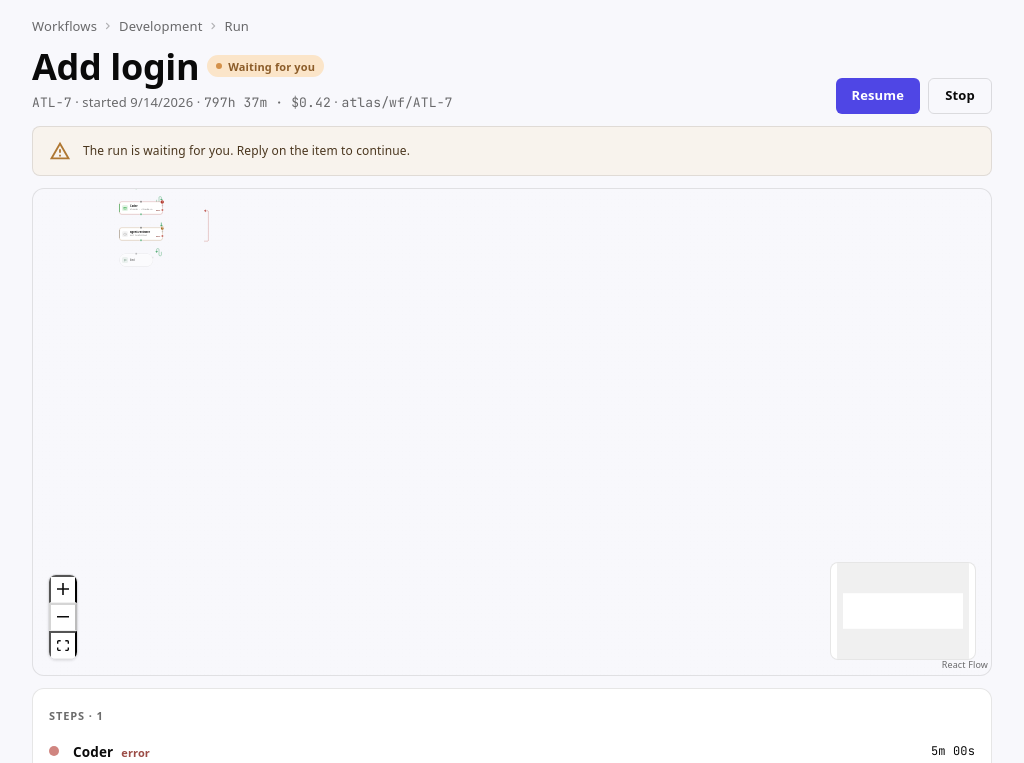
Scenario: WorkflowRunDetail › explains a parked run, offers Resume and resumes it
expect the text "The run is waiting for you. Reply on the item to continue." is shown: met, box [83,142,410,159]
What coordinates should you click on to do the following:
click the button "Resume"
I would click on:
 (878, 96)
Its box is [836,78,920,114].
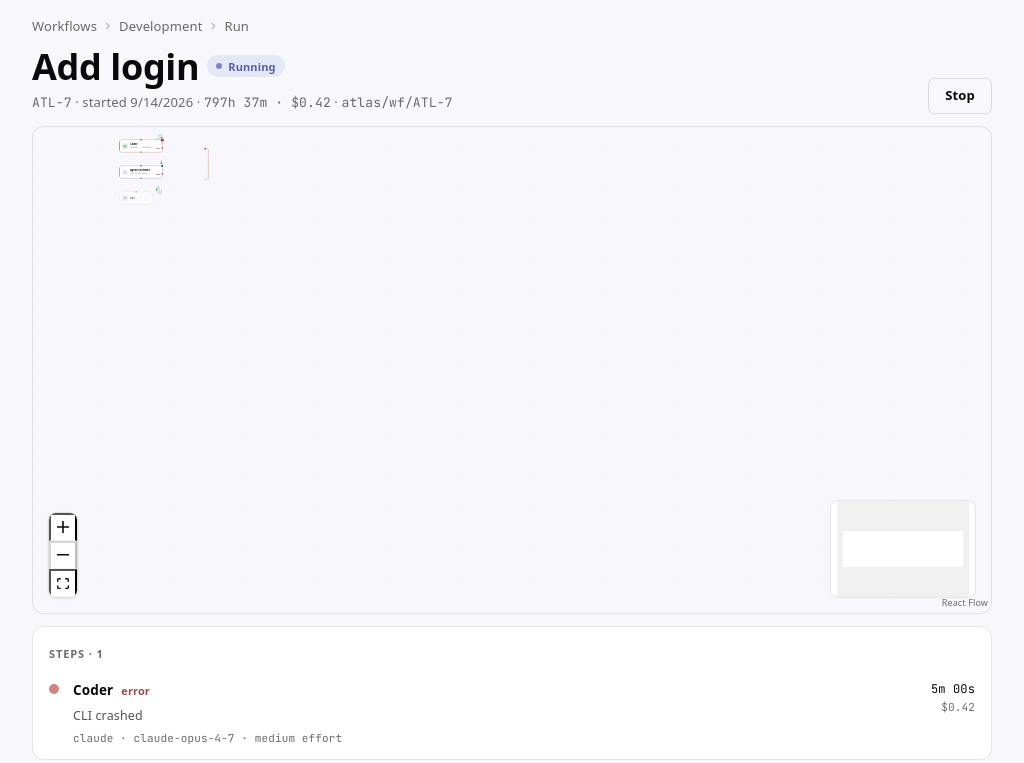
expect the button "Resume" is gone: met
